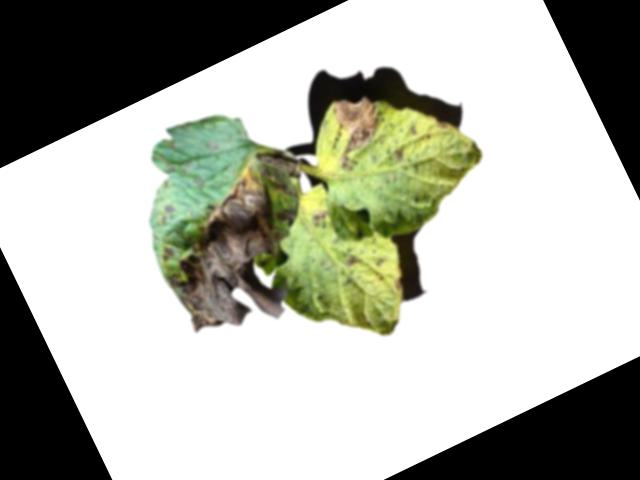Early_blight: (138, 166, 318, 355), (315, 86, 396, 175), (253, 138, 312, 203), (305, 207, 334, 235), (275, 206, 301, 232), (339, 250, 362, 269), (393, 147, 410, 165)
